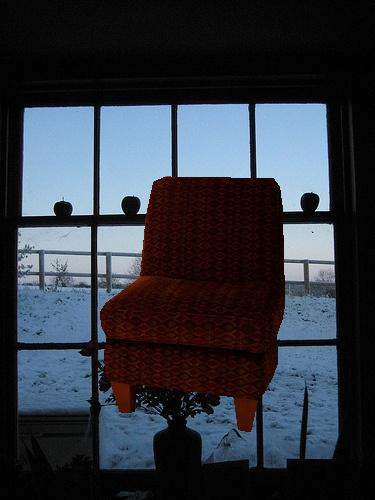tampered: (101, 177, 285, 432)
